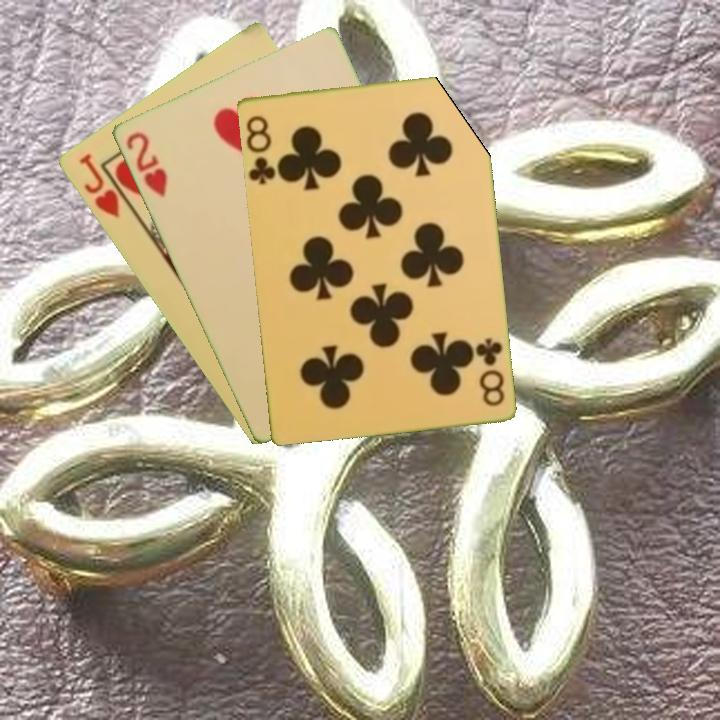2h: (122, 127, 170, 200)
8c: (242, 112, 282, 187), (471, 334, 507, 409)
Jh: (75, 150, 122, 221)
